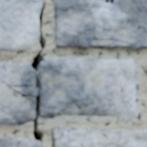brick: (54, 0, 146, 49), (0, 0, 42, 49), (53, 126, 146, 146), (0, 138, 41, 146)
broken_brick: (16, 57, 136, 117), (0, 83, 34, 123), (0, 64, 33, 83)
crack: (0, 2, 47, 144), (91, 37, 140, 48), (2, 65, 8, 74), (76, 142, 84, 146)
